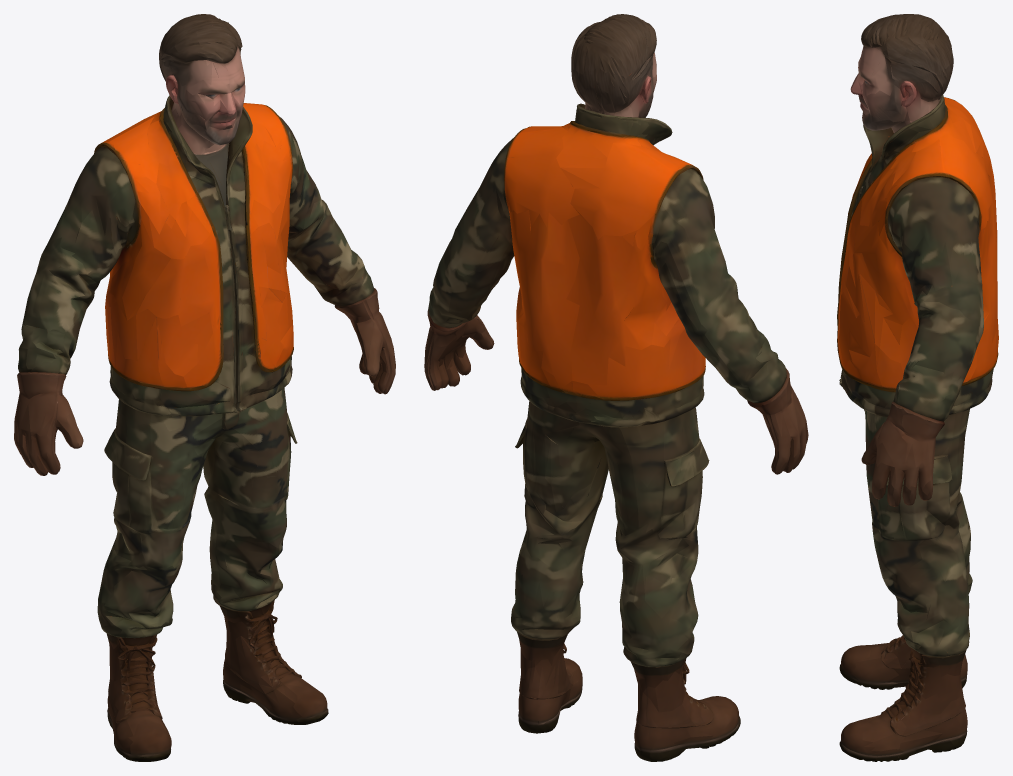
Rendered from hunter-base.glb.
The picture shows the model from 3 angles, left to right: view 1: azimuth 30°, elevation 25°; view 2: azimuth 150°, elevation 25°; view 3: azimuth 270°, elevation 25°; orthographic projection.
Parts seen in each view (by area): view 1: geometry_0; view 2: geometry_0; view 3: geometry_0.
Boxes of the visible parts, box(x1,y1,x2,y2) form: geometry_0: box(14, 14, 395, 761); geometry_0: box(424, 14, 808, 761); geometry_0: box(837, 14, 998, 761).
Bounding box in the file's own units: 1.04 × 1.9 × 0.3994.
1 material, 1 textured.
